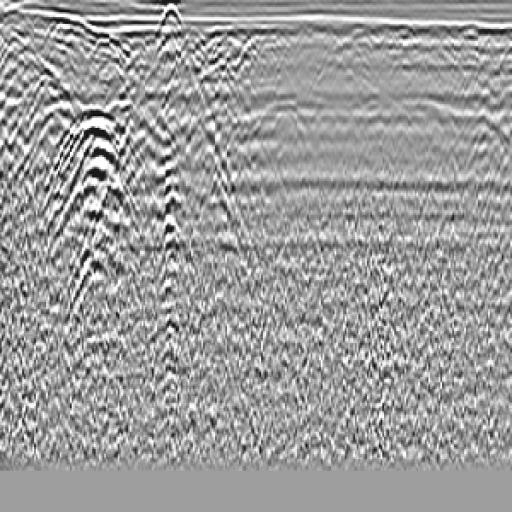non-metallic: (77, 1, 285, 268), (3, 36, 168, 282)
